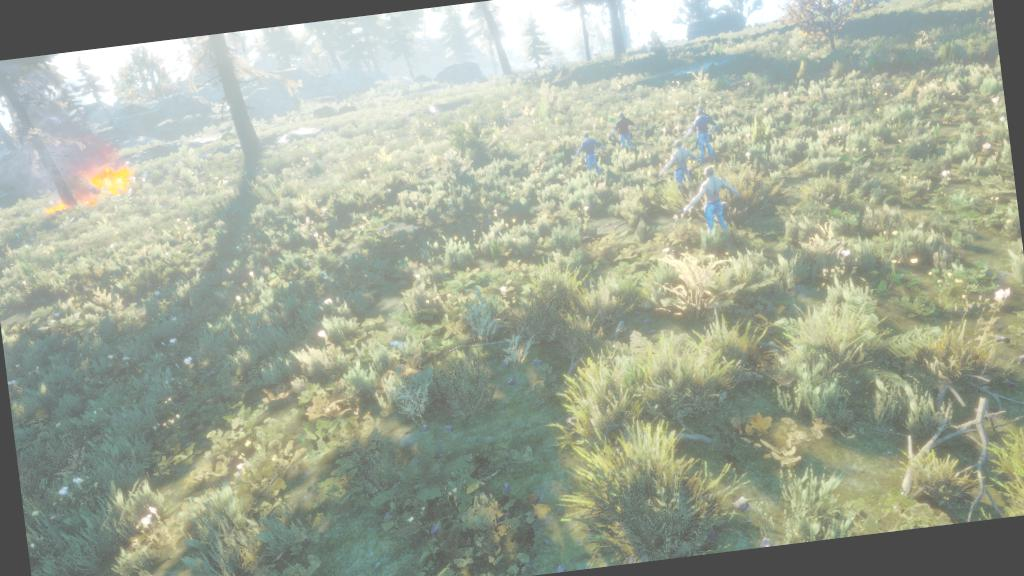Fire: (80, 152, 148, 196), (36, 190, 100, 217)
human: (676, 156, 762, 246), (682, 90, 734, 170), (660, 130, 700, 194), (560, 121, 604, 178), (608, 101, 646, 162)
smoke: (4, 99, 106, 185)
